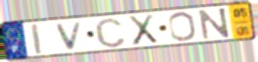C: (93, 16, 128, 49)
I: (29, 22, 44, 56)
N: (197, 7, 232, 42)
O: (167, 10, 199, 42)
V: (54, 20, 85, 51)
X: (126, 13, 159, 47)
